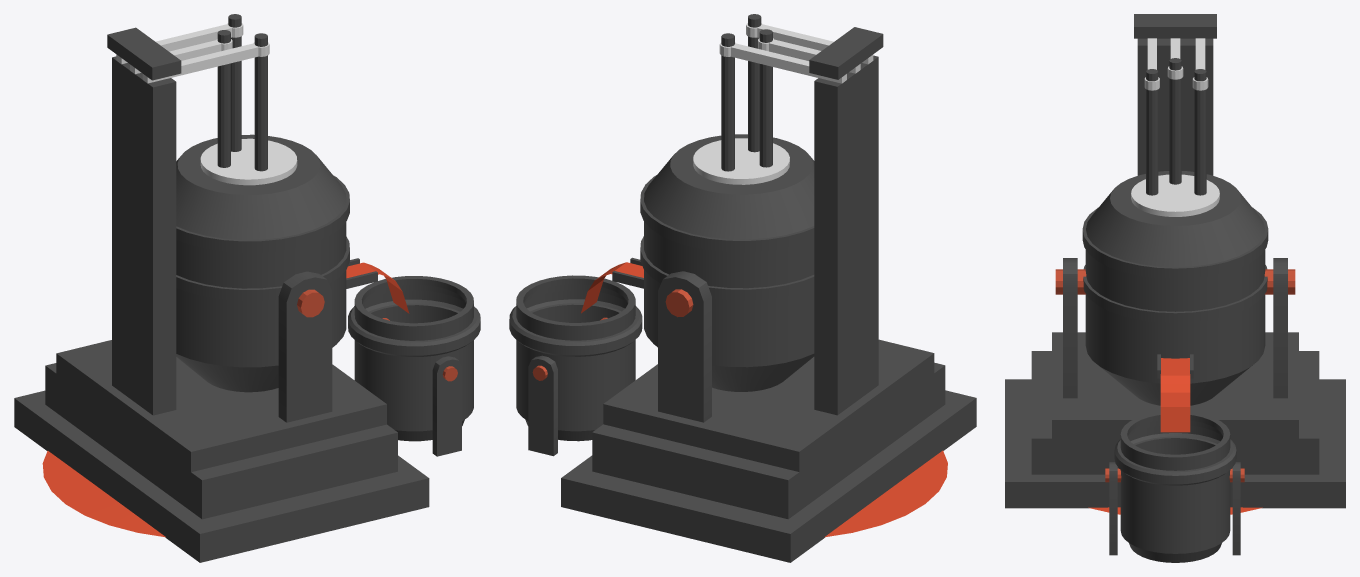
Rendered from Plating Machine.fbx.
The picture shows the model from 3 angles, left to right: view 1: azimuth 30°, elevation 25°; view 2: azimuth 150°, elevation 25°; view 3: azimuth 270°, elevation 25°; orthographic projection. The views are drawn at different scales.
Parts seen in each view (by area): view 1: Plating Machine, furnance.001, liquid1, liquid3; view 2: Plating Machine, furnance.001, liquid1, liquid3; view 3: Plating Machine, furnance.001, liquid3.
Boxes of the visible parts, box(x1,y1,x2,y2) form: Plating Machine: box(14, 14, 461, 562); furnance.001: box(346, 258, 480, 441); liquid1: box(42, 451, 165, 537); liquid3: box(346, 262, 409, 313); Plating Machine: box(528, 14, 976, 562); furnance.001: box(509, 257, 643, 441); liquid1: box(824, 450, 947, 537); liquid3: box(581, 262, 643, 313); Plating Machine: box(1005, 14, 1345, 555); furnance.001: box(1114, 354, 1236, 562); liquid3: box(1160, 358, 1190, 432).
Bounding box in the file's own units: 274 × 287 × 217.
